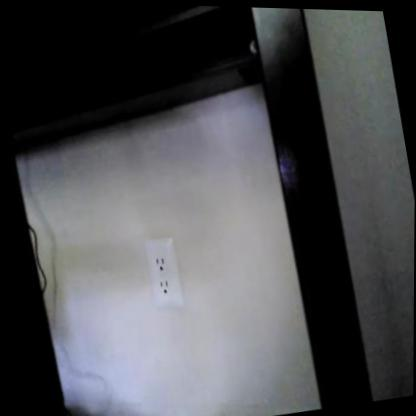OUTLET: (145, 236, 185, 312)
